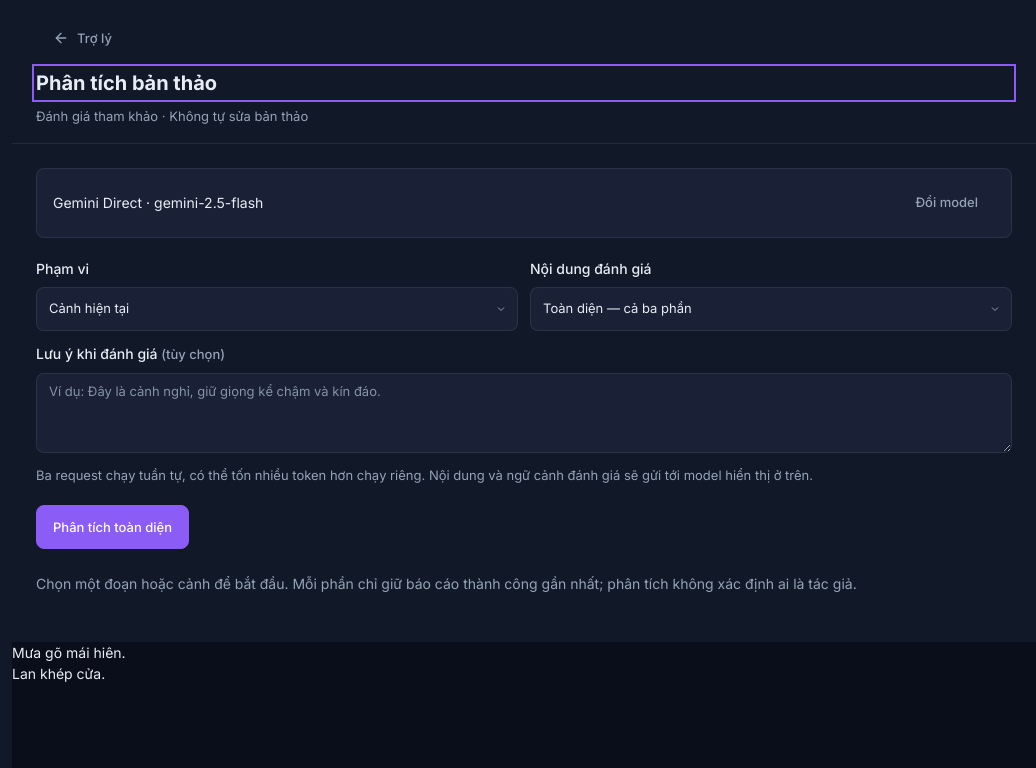
Test: review UI with real Tiptap and service › commits scope and mode by pointer without submitting or changing model preferences
Click the dropdown named "Phạm vi phân tích" at {"x": 89, "y": 308}, box [36,287,518,331]
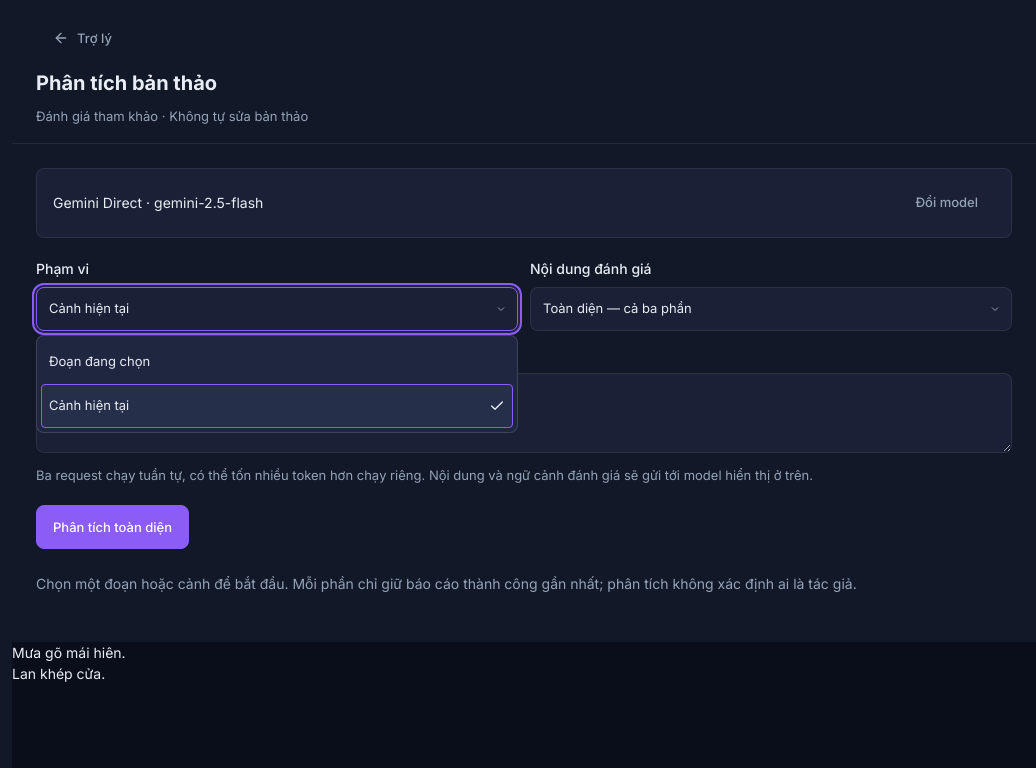
Click the option "Đoạn đang chọn" at {"x": 100, "y": 361}, box [49,353,150,369]
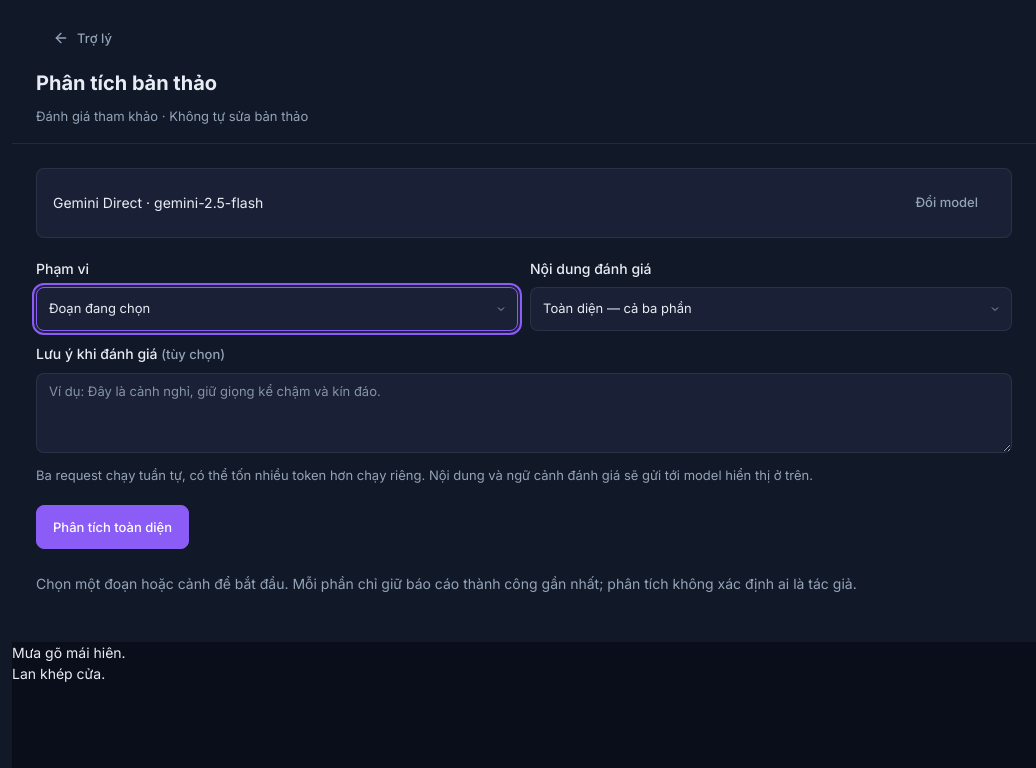
Expected: the dropdown named "Phạm vi phân tích" holds "selection", [36,287,518,331]
Click the dropdown named "Phần phân tích" at {"x": 617, "y": 308}, box [530,287,1012,331]
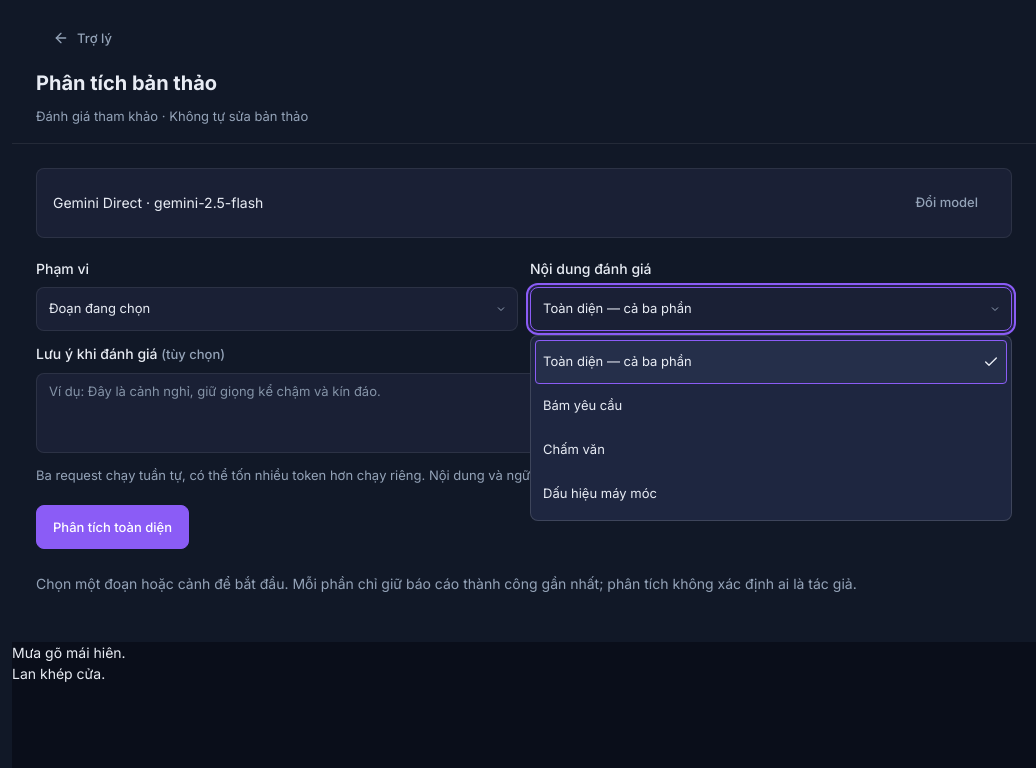
Click the option "Bám yêu cầu" at {"x": 583, "y": 405}, box [543,397,622,413]
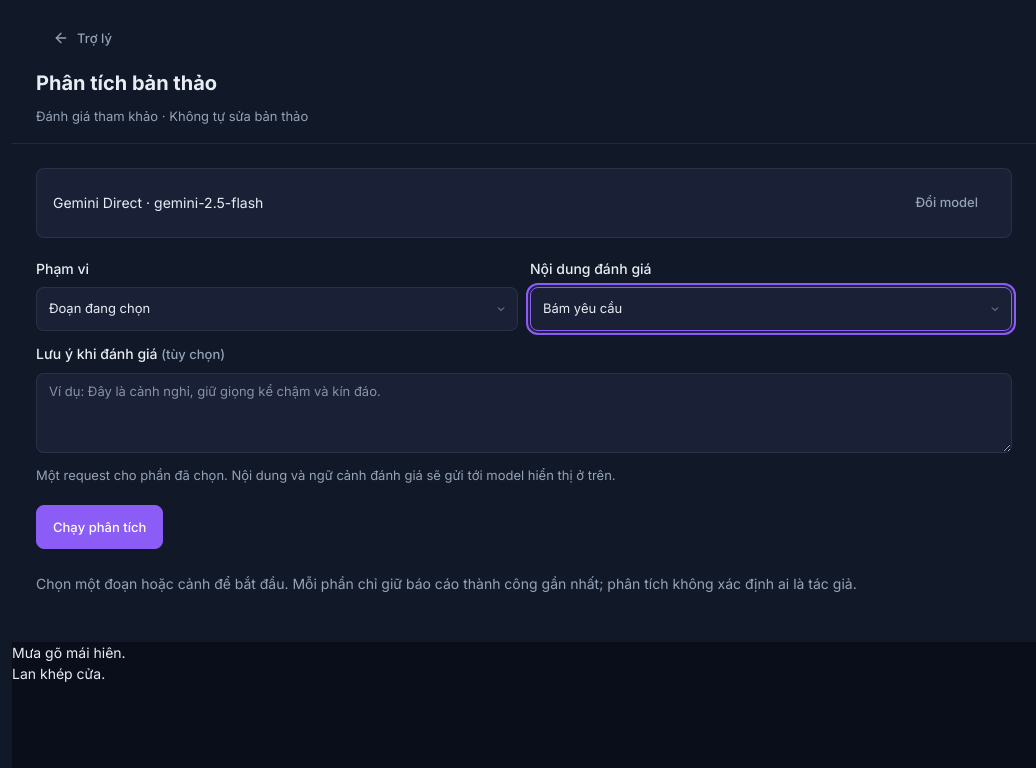
Expected: the dropdown named "Phần phân tích" holds "adherence", [530,287,1012,331]
Result: the text "Một request cho phần đã chọn." is shown at [36,467,232,483]
